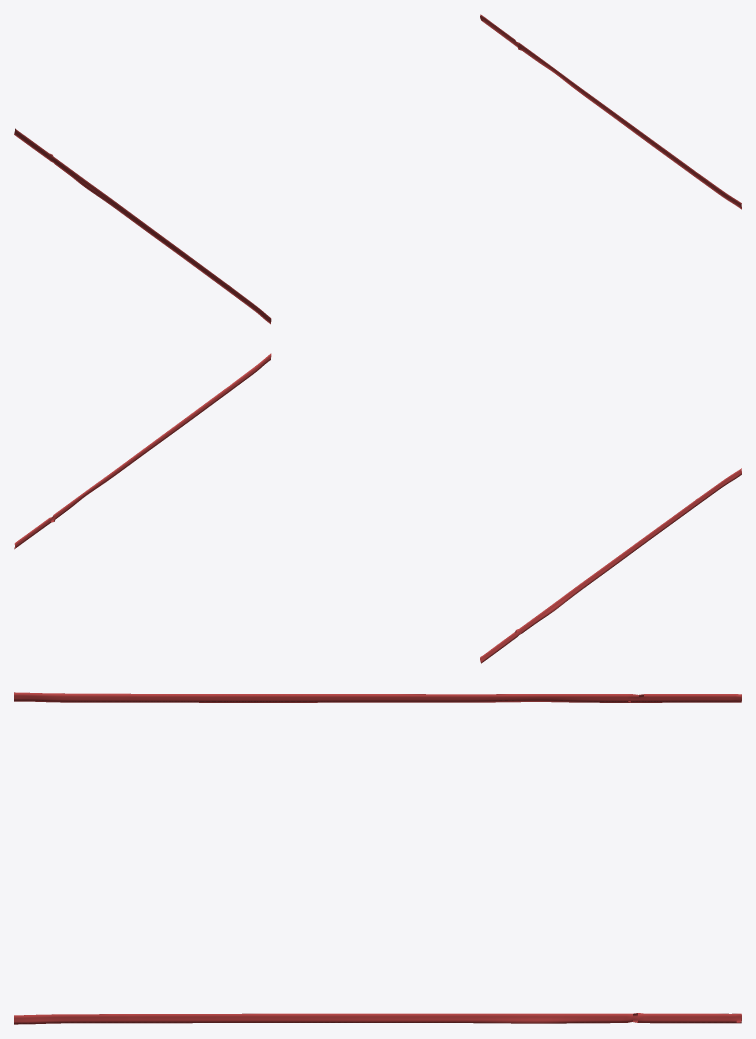
The model's file is DT77_side_stripes_accent.glb.
The picture shows the model from 3 angles, top to bottom: view 1: azimuth 30°, elevation 25°; view 2: azimuth 150°, elevation 25°; view 3: azimuth 270°, elevation 25°; orthographic projection. The views are drawn at different scales.
Visible parts, largest first — view 1: MOD_NB_DT77_stripe_R, MOD_NB_DT77_stripe_L; view 2: MOD_NB_DT77_stripe_R, MOD_NB_DT77_stripe_L; view 3: MOD_NB_DT77_stripe_L, MOD_NB_DT77_stripe_R.
Part boxes in pixels (x1,y1,x2,y2): MOD_NB_DT77_stripe_R: (14, 128, 271, 324); MOD_NB_DT77_stripe_L: (480, 14, 741, 209); MOD_NB_DT77_stripe_R: (480, 468, 741, 663); MOD_NB_DT77_stripe_L: (14, 353, 271, 549); MOD_NB_DT77_stripe_L: (14, 1013, 741, 1024); MOD_NB_DT77_stripe_R: (14, 692, 741, 702).
Size of the model in its own units: 1.68 by 0.0221 by 1.6.
